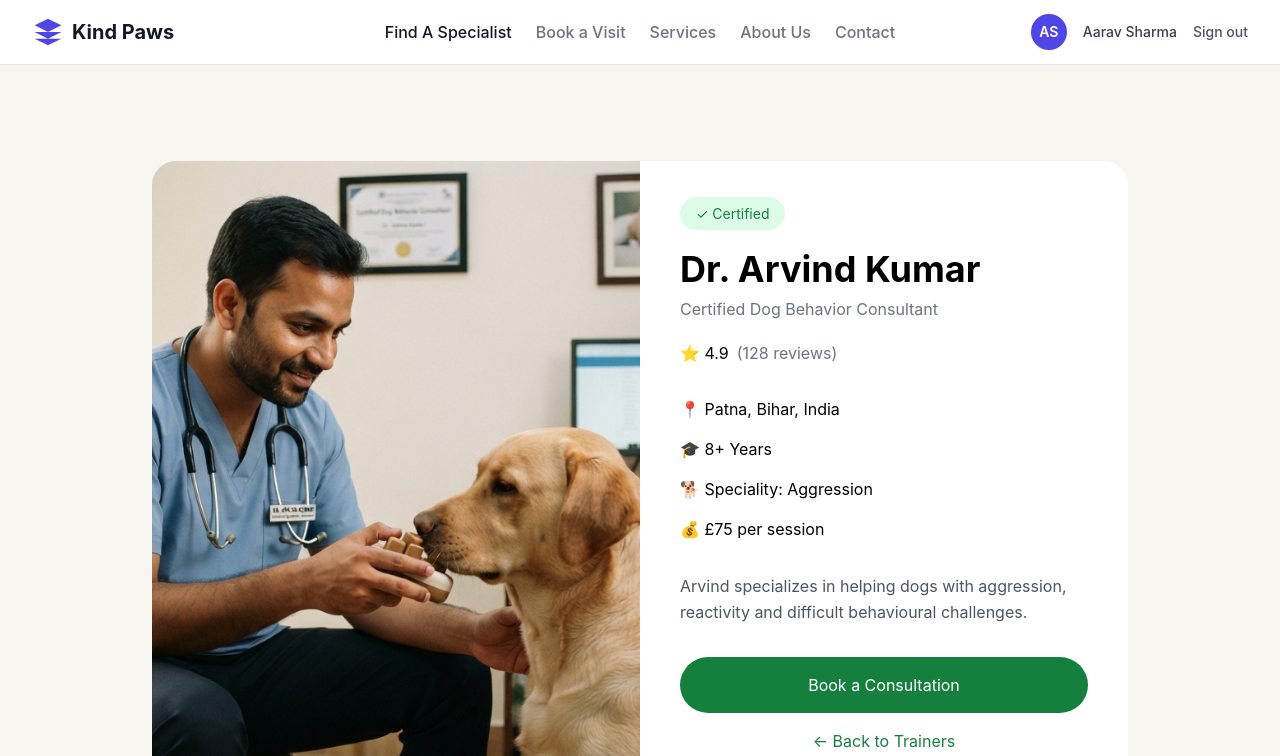
it: a trainer profile opens the consultation booking form
Click the button "Book a Consultation". click: x=884, y=685
box: [680,657,1088,713]
(page scrolled)
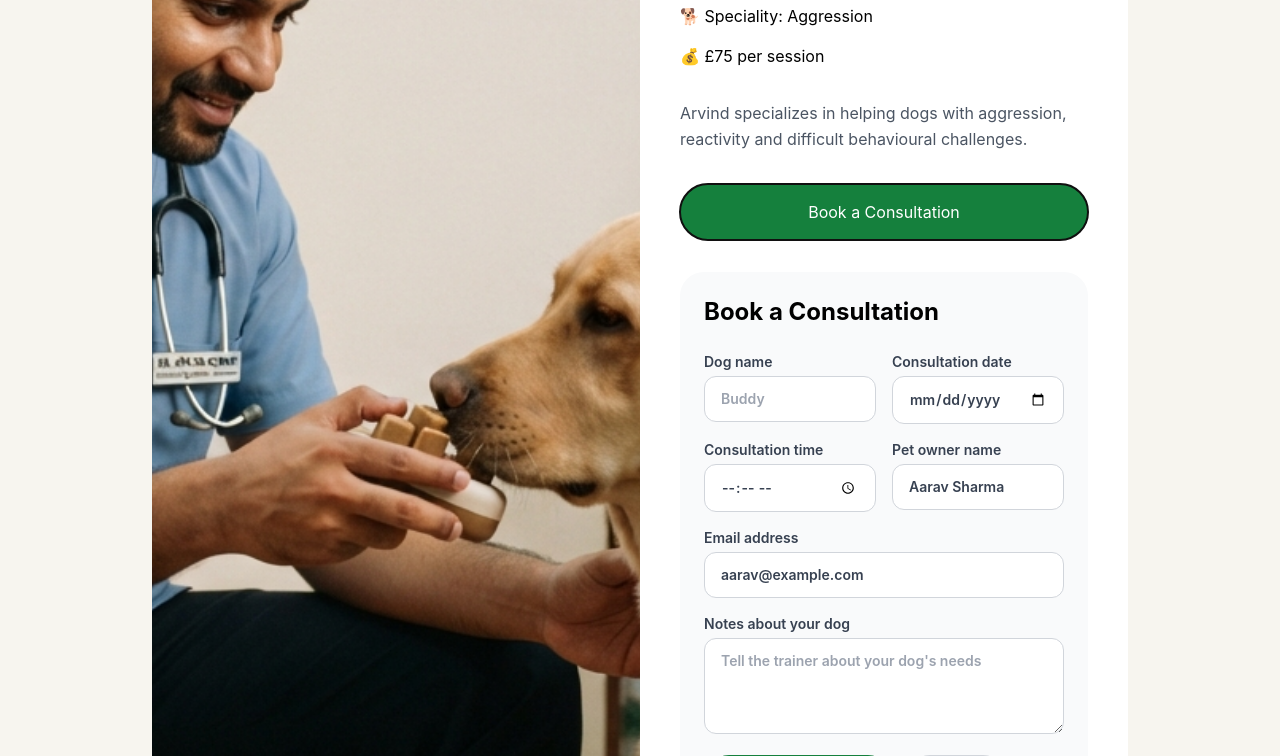
Expected: the field labelled "Dog name" is shown, [704,376,876,422]
Expected: the date field labelled "Consultation date" is shown, [892,376,1064,424]
